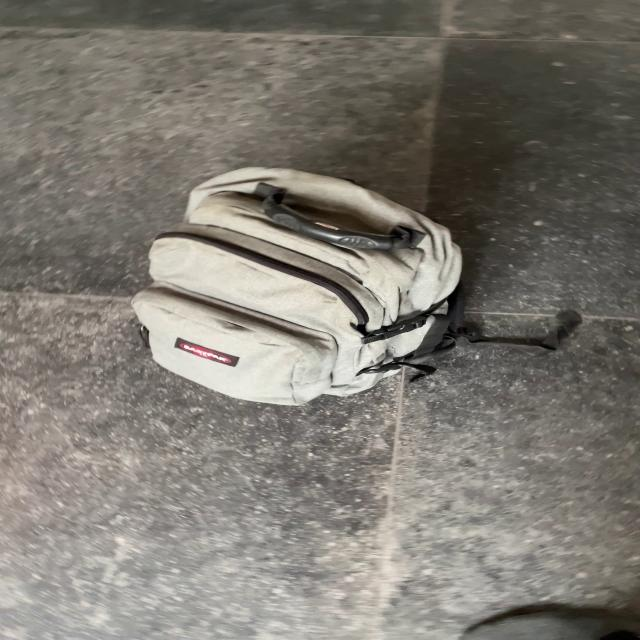backpack: (125, 159, 480, 408)
